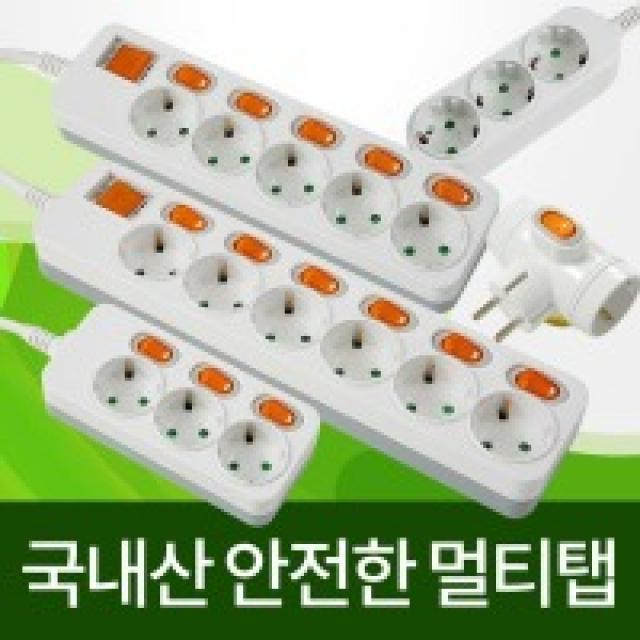typeb: (41, 12, 513, 286), (27, 292, 342, 541)
